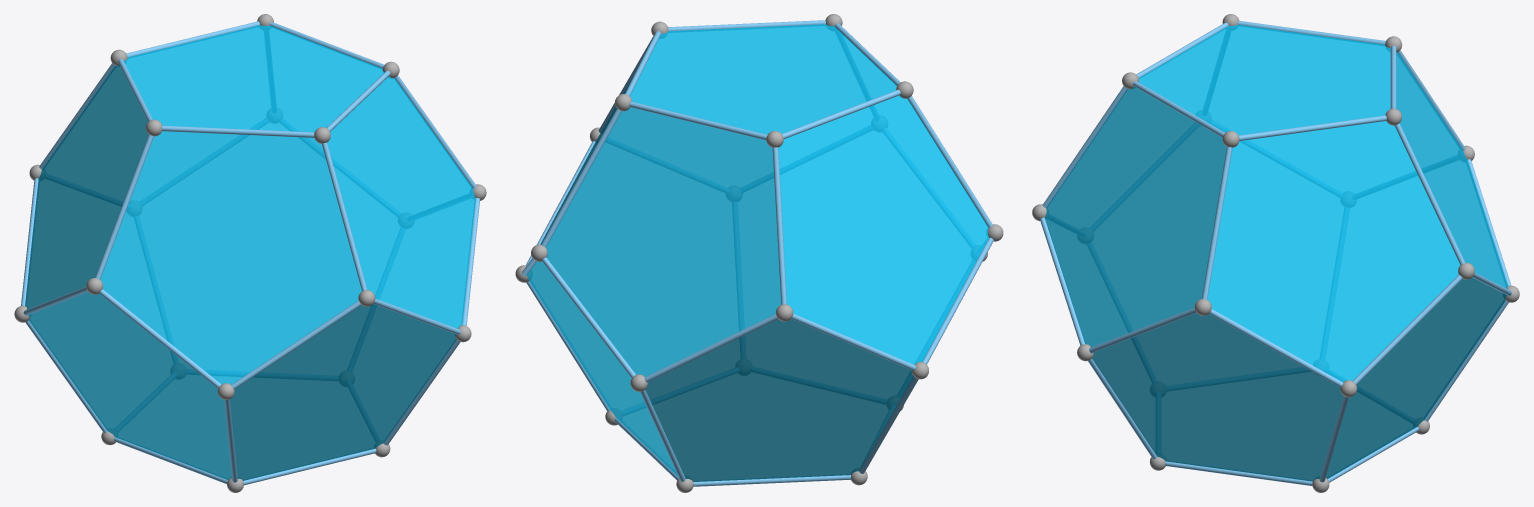
The model's file is dodecahedron.glb.
The picture shows the model from 3 angles, left to right: view 1: azimuth 30°, elevation 25°; view 2: azimuth 150°, elevation 25°; view 3: azimuth 270°, elevation 25°; orthographic projection. The views are drawn at different scales.
Bounding box in the file's own units: 8.15 × 6.98 × 8.56.
